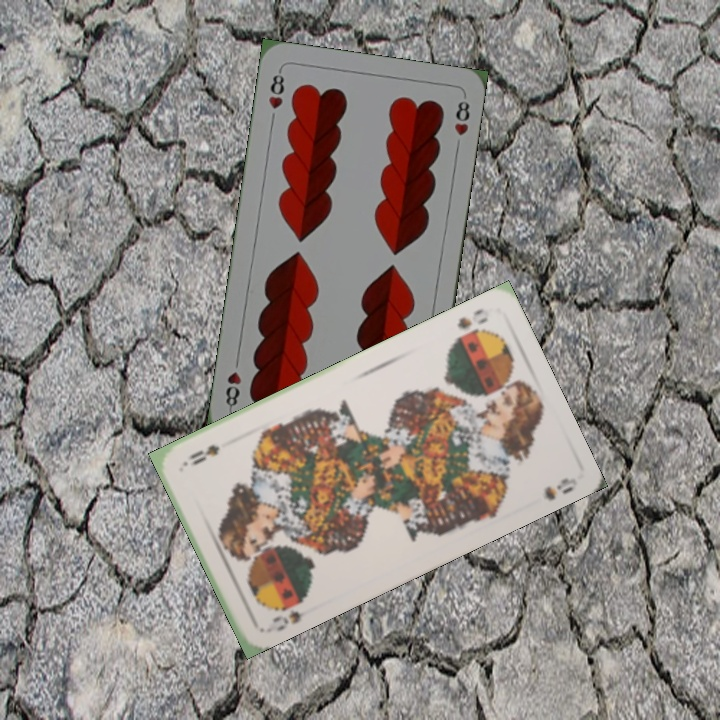H8: (264, 66, 287, 112)
SO: (269, 592, 317, 634), (453, 304, 491, 332)
